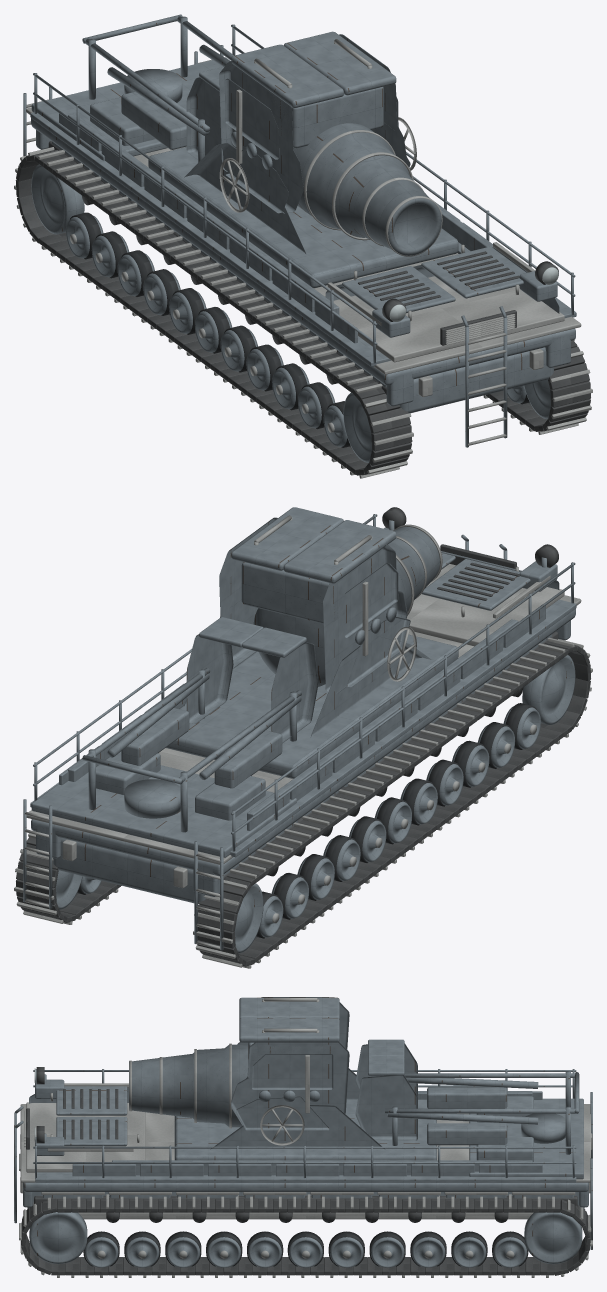
File: pgf-standard.glb
The picture shows the model from 3 angles, top to bottom: view 1: azimuth 30°, elevation 25°; view 2: azimuth 150°, elevation 25°; view 3: azimuth 270°, elevation 25°; orthographic projection. The views are drawn at different scales.
Parts seen in each view (by area): view 1: running-gear-panel-shadow-batch, cradle-graphite-painted-steel-batch, chassis-graphite-painted-steel-batch, platform-graphite-painted-steel-batch, running-gear-graphite-painted-steel-batch, carriage-graphite-painted-steel-batch, barrel-tube-exterior-batch, engine-cast-edge-steel-batch, running-gear-cast-edge-steel-batch, mechanisms-graphite-painted-steel-batch, engine-graphite-painted-steel-batch, running-gear-dark-running-bands-batch (+5 smaller); view 2: platform-graphite-painted-steel-batch, cradle-graphite-painted-steel-batch, running-gear-panel-shadow-batch, chassis-graphite-painted-steel-batch, mechanisms-graphite-painted-steel-batch, running-gear-graphite-painted-steel-batch, carriage-graphite-painted-steel-batch, running-gear-cast-edge-steel-batch, running-gear-dark-running-bands-batch, engine-cast-edge-steel-batch, barrel-tube-exterior-batch, engine-graphite-painted-steel-batch (+6 smaller); view 3: running-gear-panel-shadow-batch, chassis-graphite-painted-steel-batch, platform-graphite-painted-steel-batch, running-gear-graphite-painted-steel-batch, mechanisms-graphite-painted-steel-batch, cradle-graphite-painted-steel-batch, carriage-graphite-painted-steel-batch, chassis-cast-edge-steel-batch, barrel-tube-exterior-batch, engine-graphite-painted-steel-batch, engine-cast-edge-steel-batch, running-gear-dark-running-bands-batch (+6 smaller).
Boxes of the visible parts, x1,y1,x2,y2 form: running-gear-panel-shadow-batch: (15,150,590,475); cradle-graphite-painted-steel-batch: (219,31,410,213); chassis-graphite-painted-steel-batch: (31,112,575,413); platform-graphite-painted-steel-batch: (23,24,576,366); running-gear-graphite-painted-steel-batch: (31,164,550,462); carriage-graphite-painted-steel-batch: (148,143,458,288); barrel-tube-exterior-batch: (293,123,441,255); engine-cast-edge-steel-batch: (327,242,564,445); running-gear-cast-edge-steel-batch: (14,147,592,478); mechanisms-graphite-painted-steel-batch: (82,14,233,162); engine-graphite-painted-steel-batch: (325,246,559,447); running-gear-dark-running-bands-batch: (70,212,529,447); platform-graphite-painted-steel-batch: (23,514,576,950); cradle-graphite-painted-steel-batch: (219,507,410,693); running-gear-panel-shadow-batch: (16,641,590,966); chassis-graphite-painted-steel-batch: (31,604,575,904); mechanisms-graphite-painted-steel-batch: (82,617,318,832); running-gear-graphite-painted-steel-batch: (56,655,575,953); carriage-graphite-painted-steel-batch: (166,634,458,778); running-gear-cast-edge-steel-batch: (14,637,592,968); running-gear-dark-running-bands-batch: (77,703,537,938); engine-cast-edge-steel-batch: (406,564,564,646); barrel-tube-exterior-batch: (253,526,439,686); engine-graphite-painted-steel-batch: (384,520,559,610); running-gear-panel-shadow-batch: (21,1198,590,1275); chassis-graphite-painted-steel-batch: (23,1091,588,1208); platform-graphite-painted-steel-batch: (33,1069,592,1249); running-gear-graphite-painted-steel-batch: (29,1212,582,1267); mechanisms-graphite-painted-steel-batch: (355,1039,579,1154); cradle-graphite-painted-steel-batch: (231,997,349,1130); carriage-graphite-painted-steel-batch: (174,1068,436,1160); chassis-cast-edge-steel-batch: (20,1104,592,1219); barrel-tube-exterior-batch: (129,1044,248,1127); engine-graphite-painted-steel-batch: (14,1074,128,1223); engine-cast-edge-steel-batch: (14,1083,145,1220); running-gear-dark-running-bands-batch: (83,1231,528,1266).
Size of the model in its own units: 3.65 by 4.49 by 10.6.
Materials: 6 (6 with a texture image).
